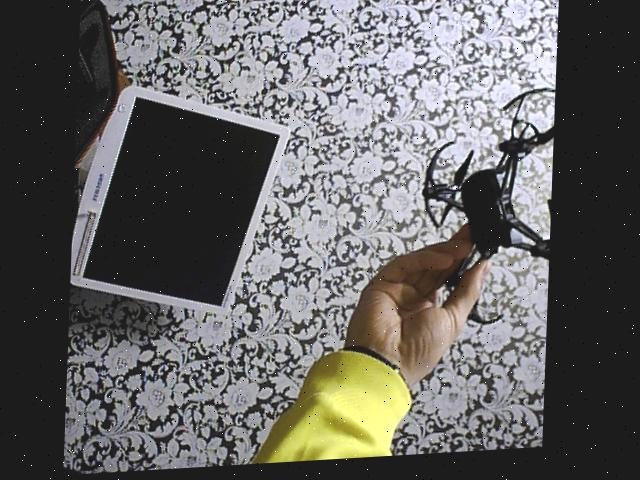drone: (413, 83, 557, 351)
